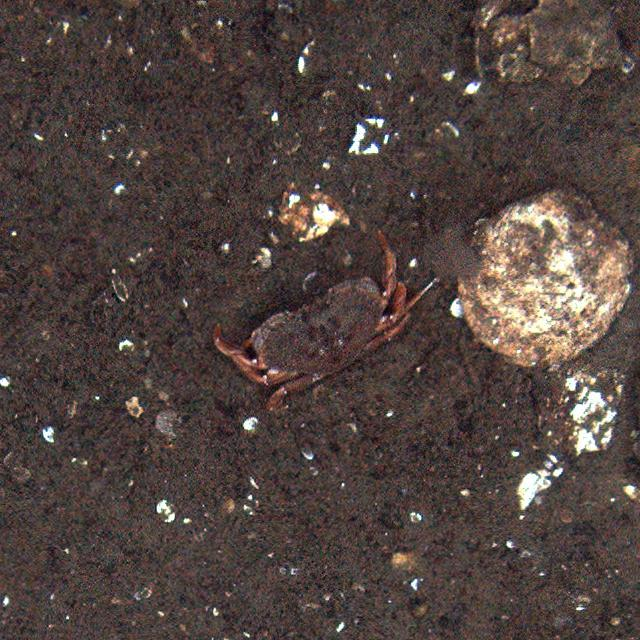crab: (215, 218, 414, 400)
